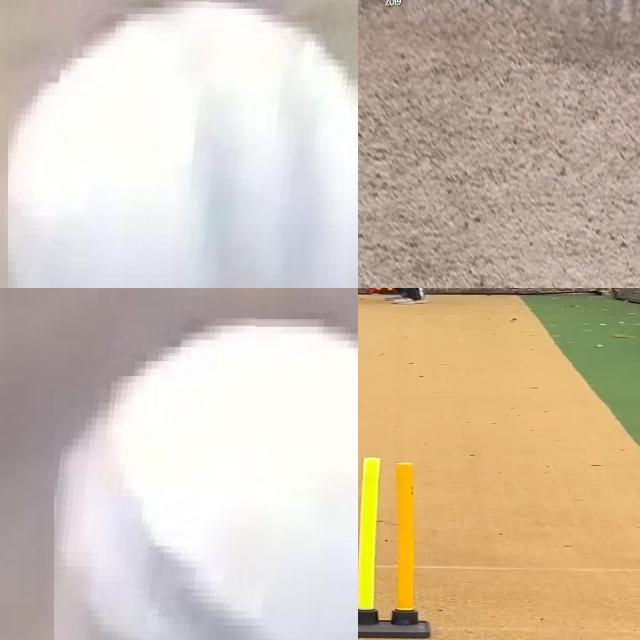Cricket ball: (7, 0, 358, 288), (54, 308, 358, 640)
Stumps: (358, 455, 431, 638)
